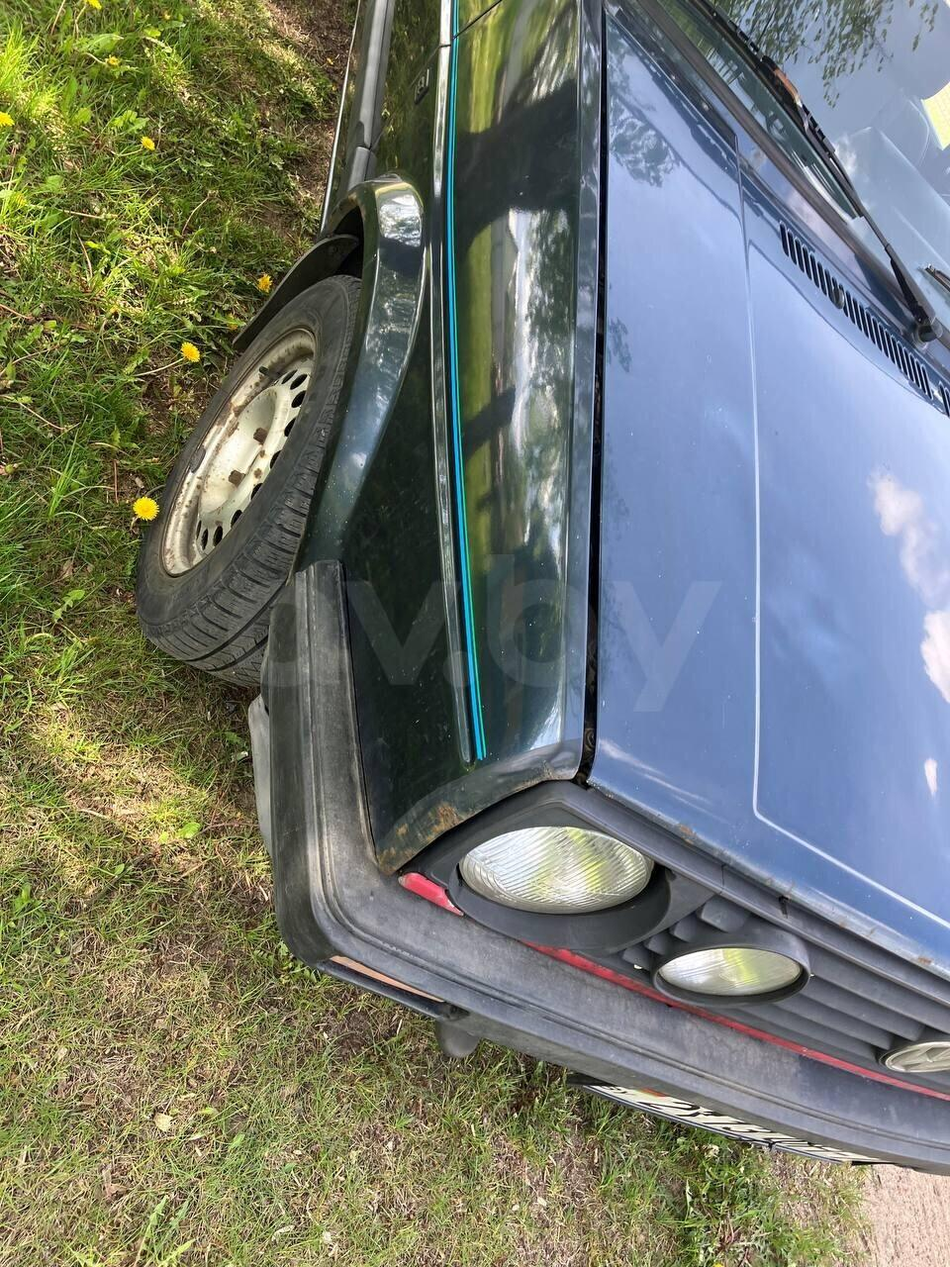Golf_1983-1992: (140, 0, 950, 1183)
